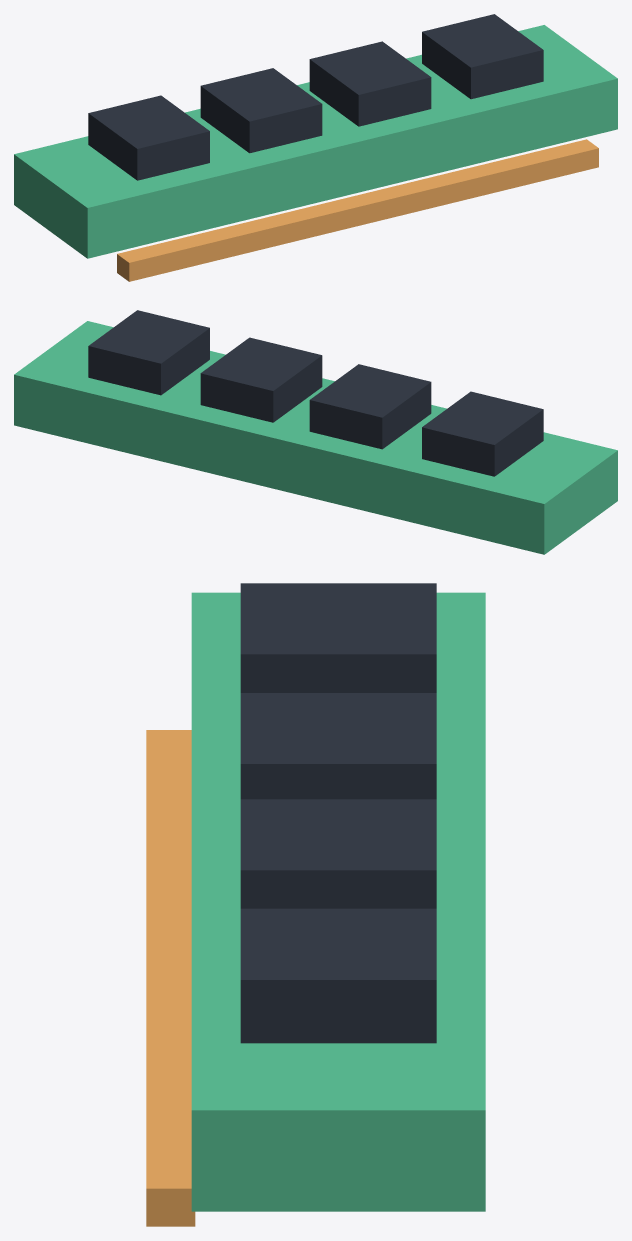
The model's file is ram.glb.
3 renders of one model, top to bottom at view 1: azimuth 30°, elevation 25°; view 2: azimuth 150°, elevation 25°; view 3: azimuth 270°, elevation 25°, orthographic. The views are drawn at different scales.
Visible parts, largest first — view 1: ram board, gold connector, chip 3, chip 2, chip 4, chip 1; view 2: ram board, chip 3, chip 2, chip 4, chip 1; view 3: ram board, chip 4, gold connector, chip 1, chip 3, chip 2.
Boxes of the visible parts, <box> form: ram board: <box>14,25,617,258</box>; gold connector: <box>117,139,598,281</box>; chip 3: <box>309,41,431,126</box>; chip 2: <box>200,68,322,153</box>; chip 4: <box>422,14,543,99</box>; chip 1: <box>88,95,209,180</box>; ram board: <box>14,321,617,554</box>; chip 3: <box>200,337,322,422</box>; chip 2: <box>309,364,431,449</box>; chip 4: <box>88,310,209,395</box>; chip 1: <box>422,391,543,476</box>; ram board: <box>191,592,485,1211</box>; chip 4: <box>240,908,436,1043</box>; gold connector: <box>146,730,195,1226</box>; chip 1: <box>240,583,436,692</box>; chip 3: <box>240,799,436,908</box>; chip 2: <box>240,693,436,799</box>.
Bounding box in the file's own units: 1.75 × 0.34 × 0.485.
